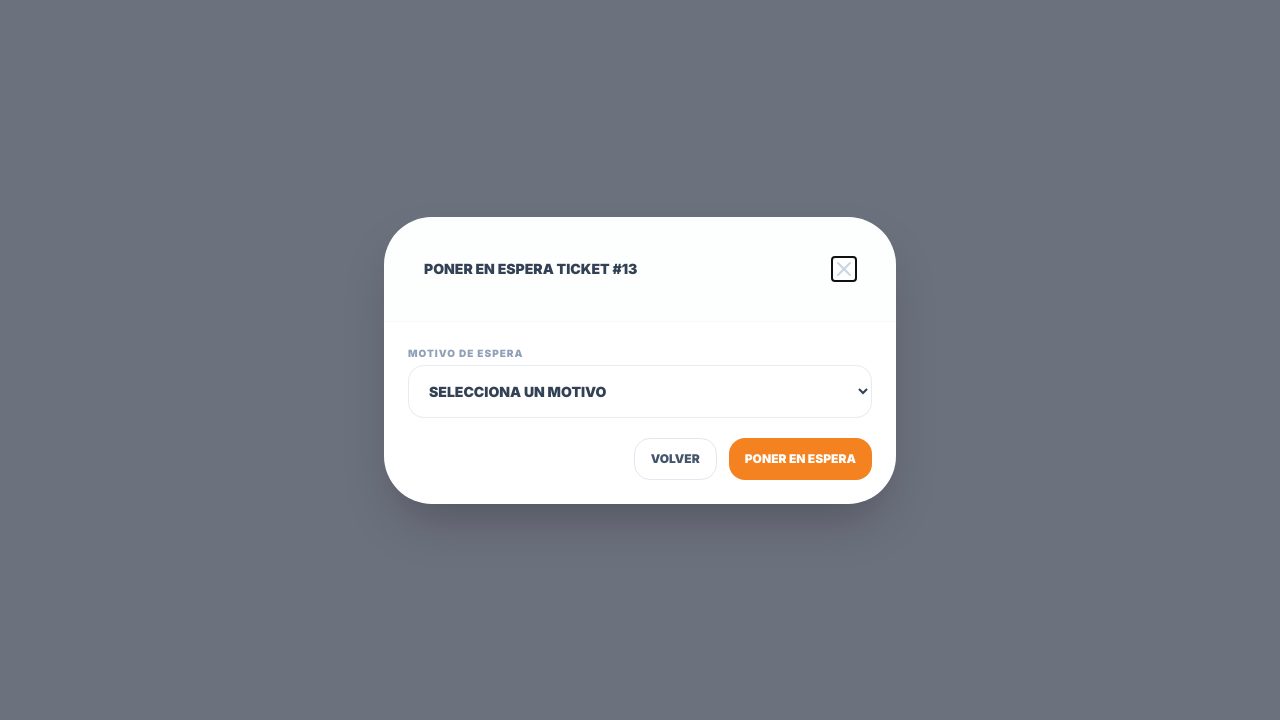
Test: los motivos externos informan la extensión por minutos hábiles
Select "En espera del proveedor" in the dropdown labelled "Motivo de espera" at coordinates (640, 391), box [408, 364, 872, 418]
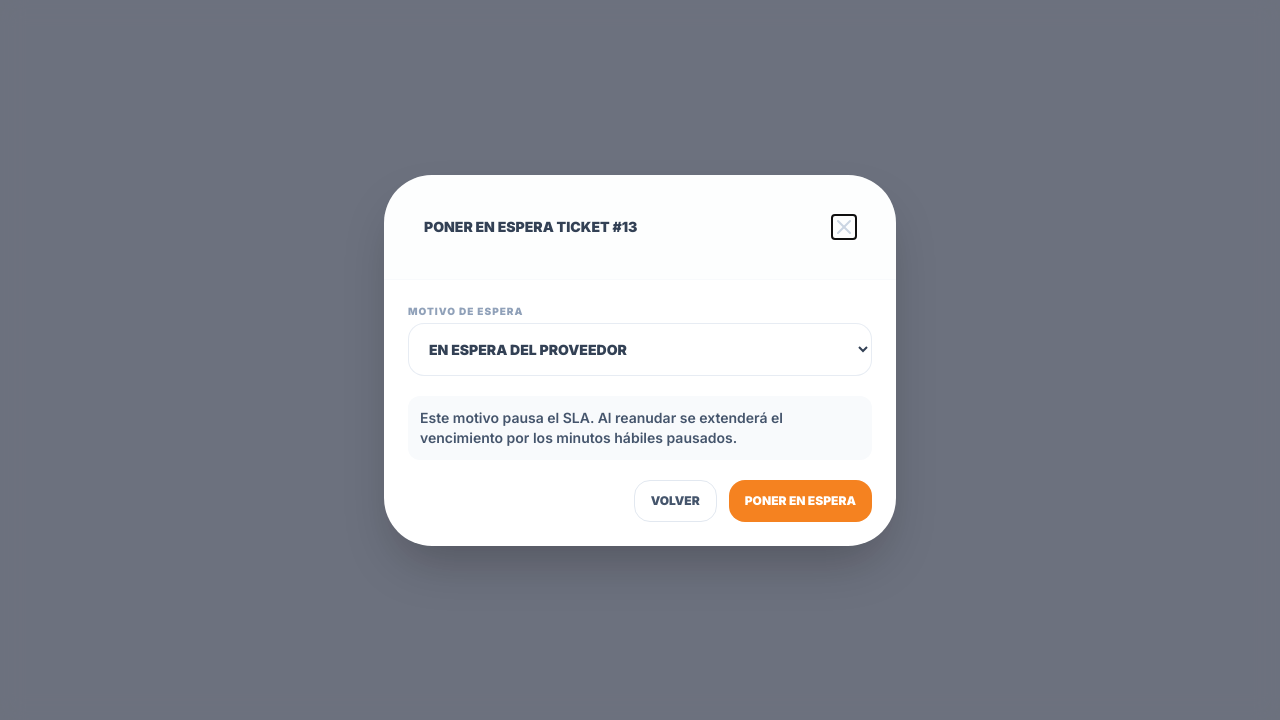
expect the message shows "pausa el SLA": met, box [420, 408, 783, 446]
expect the message shows "minutos hábiles": met, box [420, 408, 783, 446]
